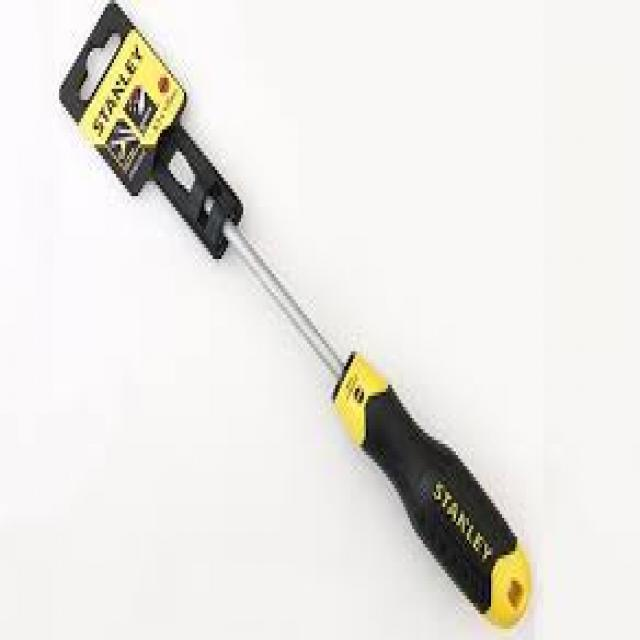screwdriver: (158, 142, 535, 631)
